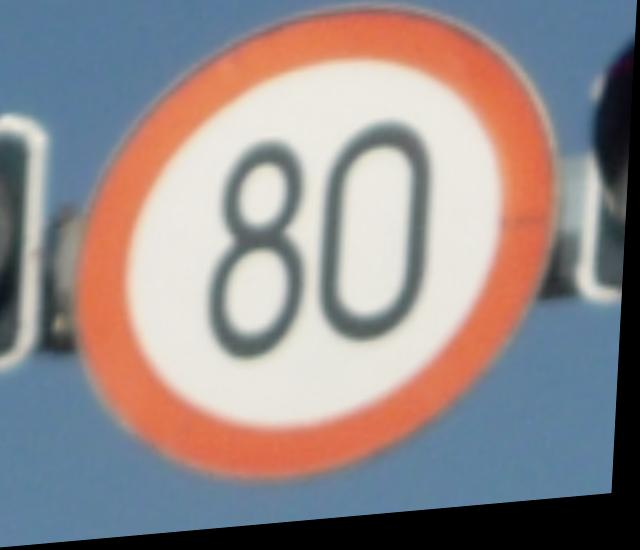limit80: (41, 0, 585, 518)
